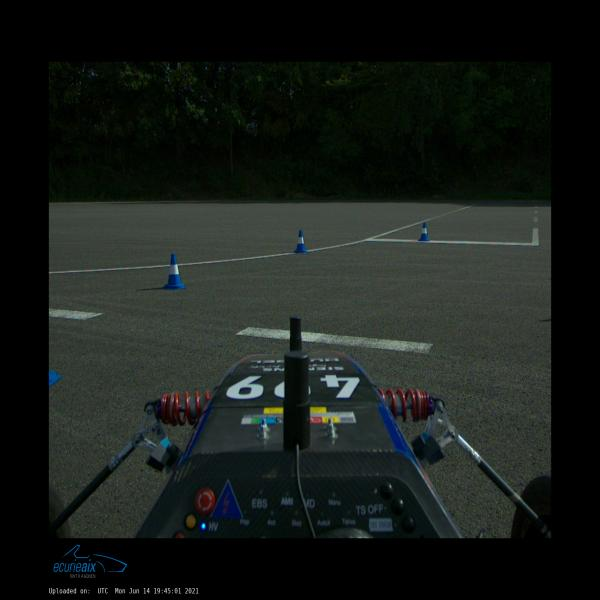blue_cone: (163, 254, 186, 290), (293, 230, 309, 254), (418, 222, 430, 241)
